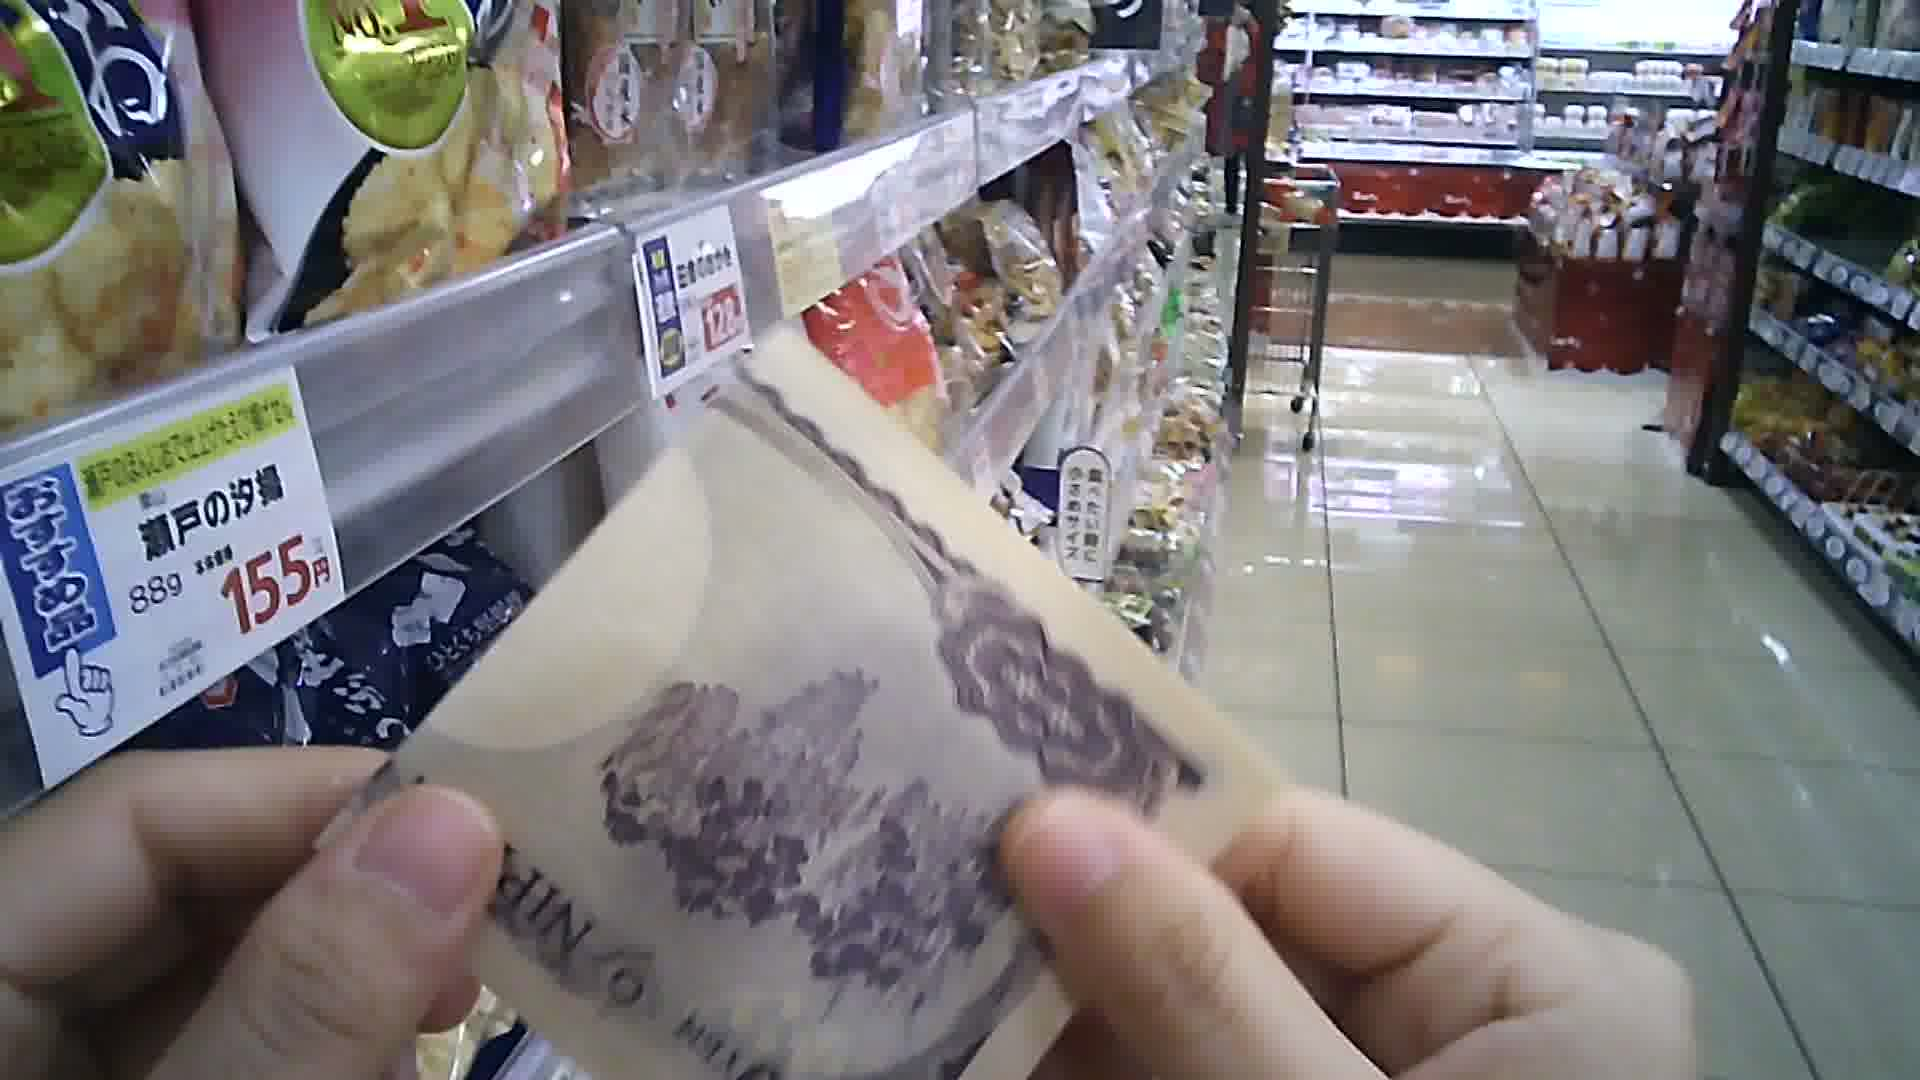5,000 Yen: (338, 313, 1261, 1073)
